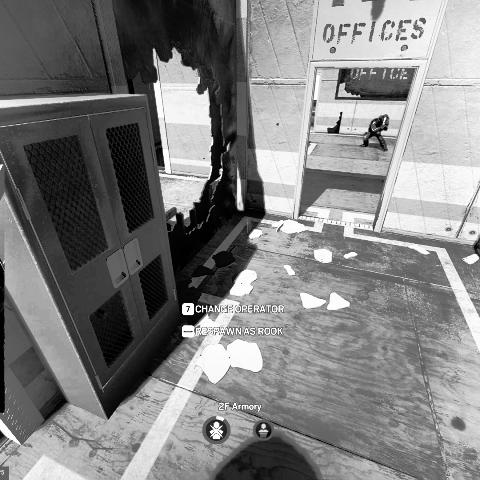Character: (358, 113, 390, 153)
Head: (379, 114, 390, 124)
